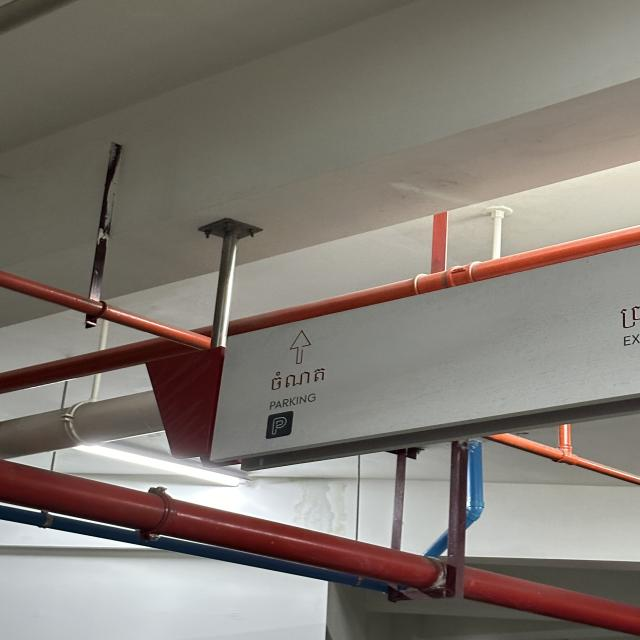Yolov11_80vkh: (263, 359, 328, 395)
